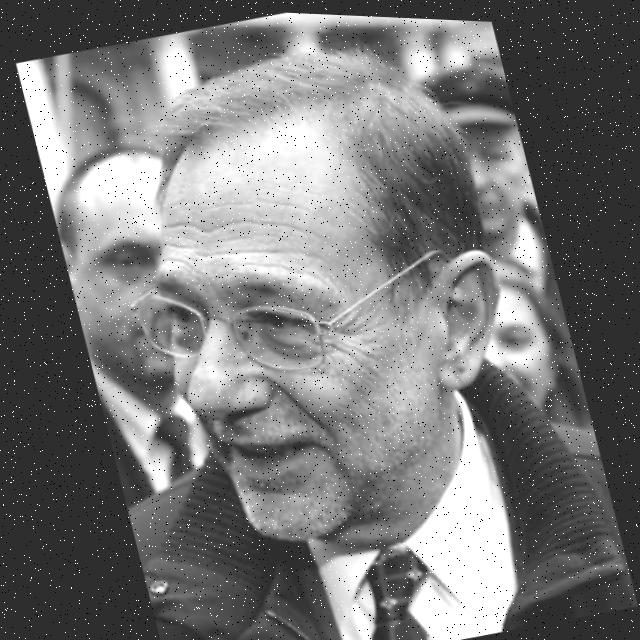face: (104, 64, 549, 574)
